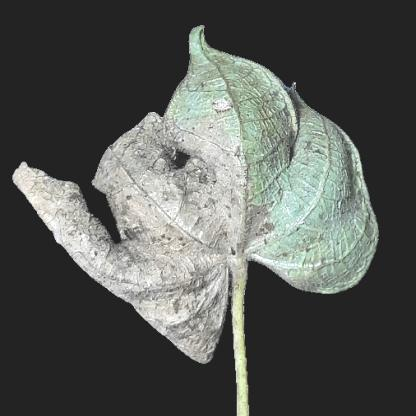curl_stage2: (247, 124, 311, 200), (189, 67, 278, 117), (316, 230, 368, 284), (291, 169, 339, 222), (258, 227, 314, 271)
sooty: (124, 181, 246, 319), (122, 122, 232, 184), (67, 240, 127, 266)
